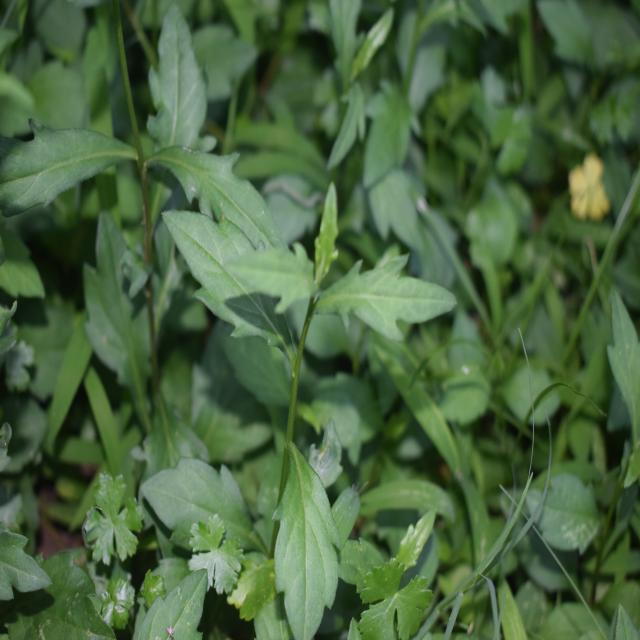Indian aster: (183, 158, 405, 605)
